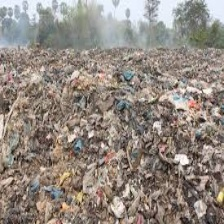smoke: (1, 13, 184, 42)
